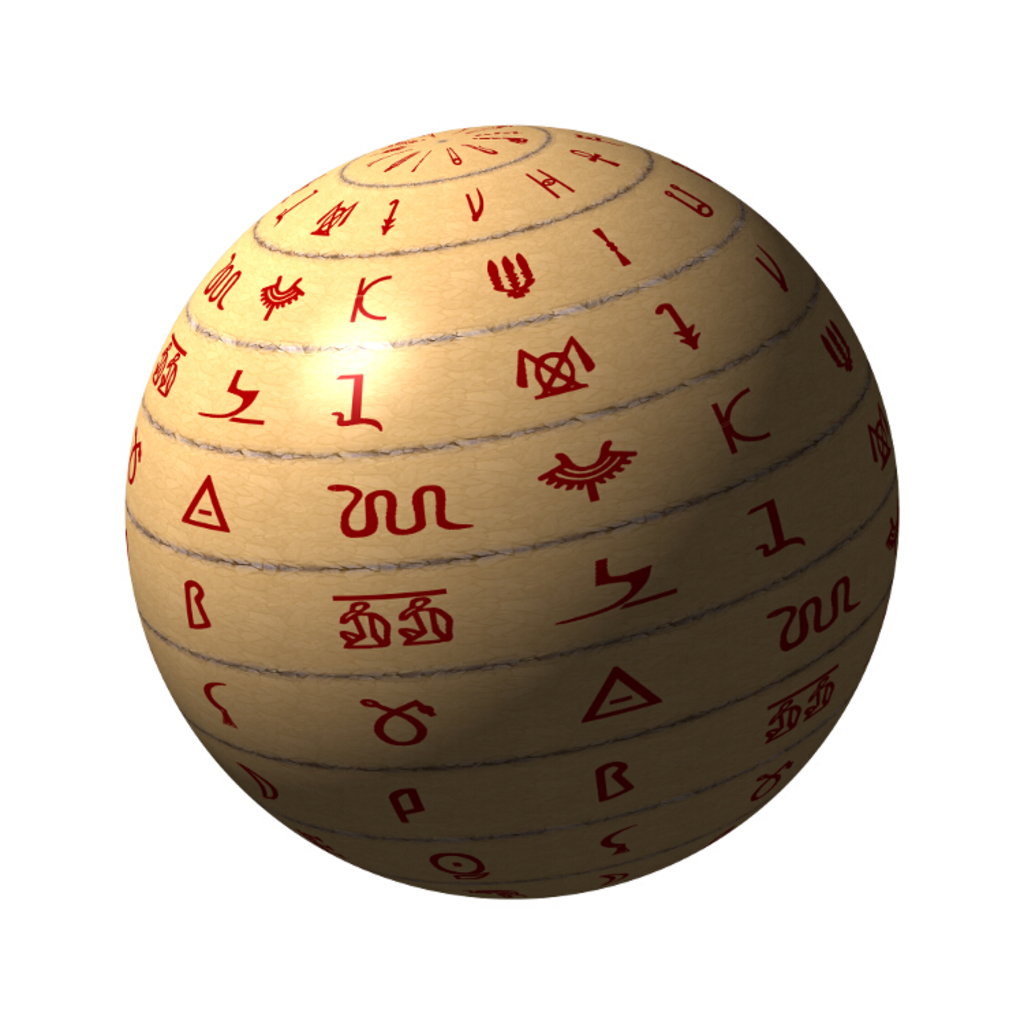Ball: (126, 130, 894, 902)
